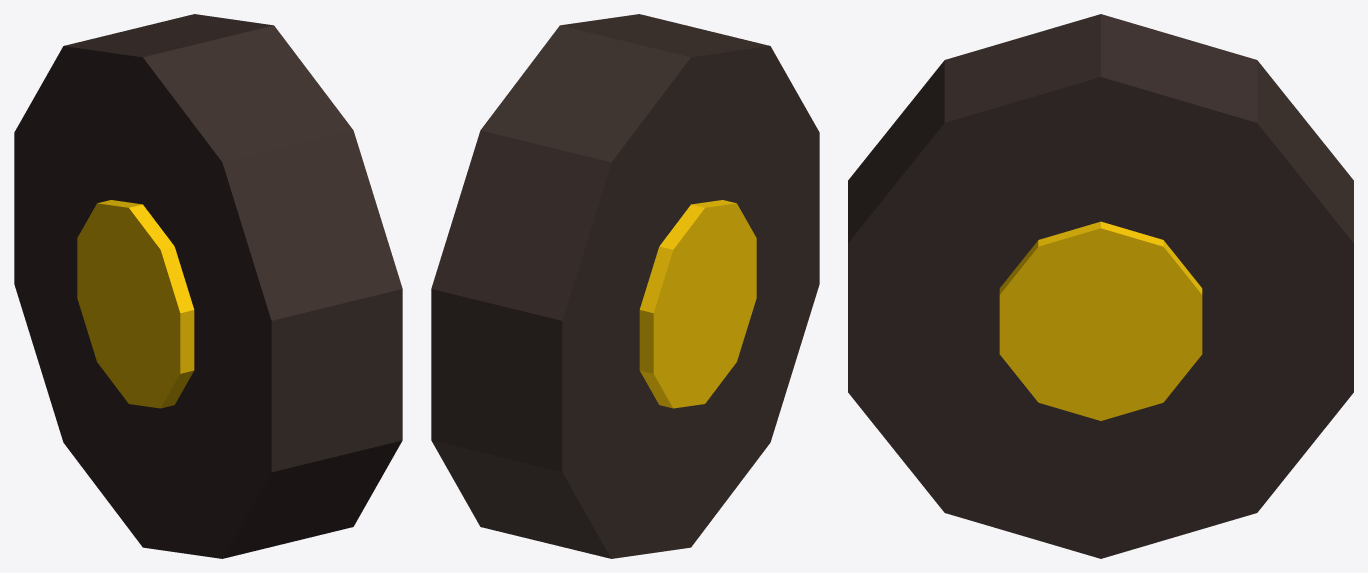
File: wheel.glb
3 renders of one model, left to right at view 1: azimuth 30°, elevation 25°; view 2: azimuth 150°, elevation 25°; view 3: azimuth 270°, elevation 25°, orthographic.
Size of the model in its own units: 0.34 by 1 by 0.9511.
